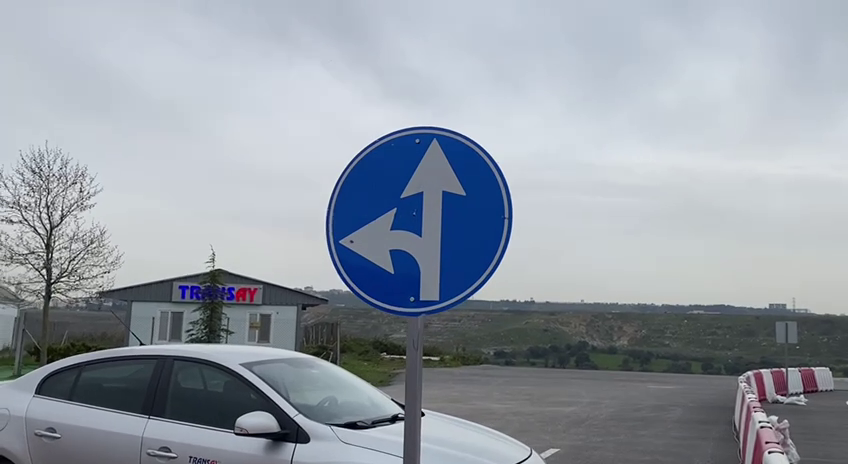forwardAndLeft: (323, 122, 515, 316)
